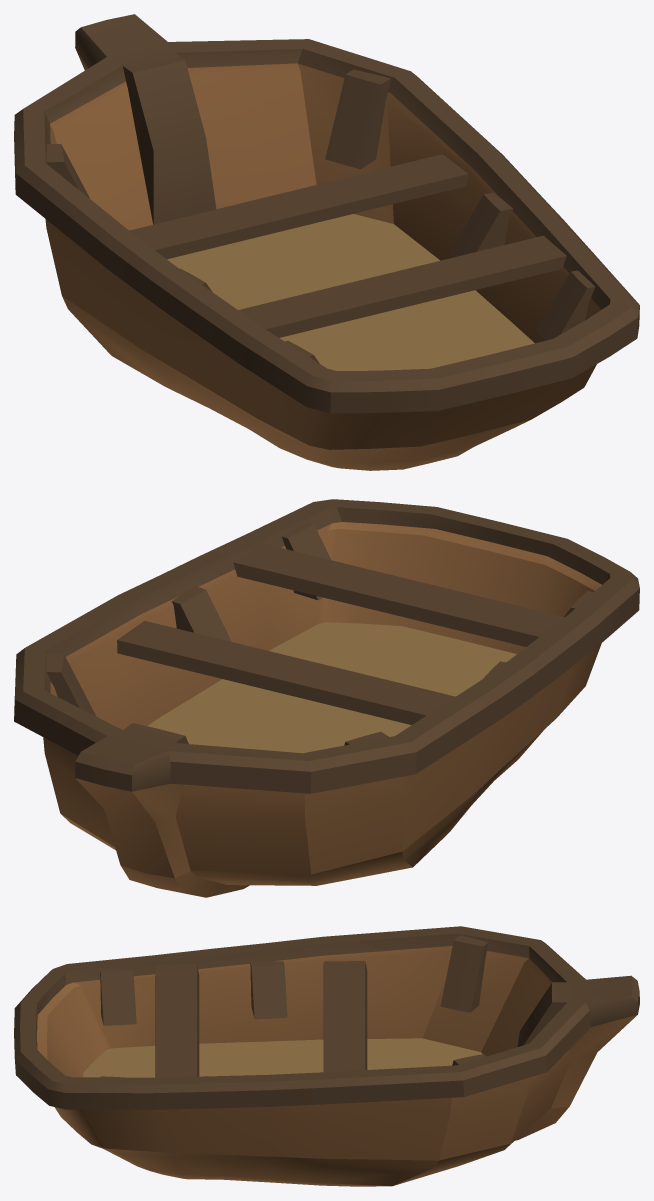
Rendered from boat.glb.
The picture shows the model from 3 angles, top to bottom: view 1: azimuth 30°, elevation 25°; view 2: azimuth 150°, elevation 25°; view 3: azimuth 270°, elevation 25°; orthographic projection. The views are drawn at different scales.
Parts seen in each view (by area): view 1: Boat; view 2: Boat; view 3: Boat.
Part boxes in pixels (x1,y1,x2,y2): Boat: [14, 14, 639, 470]; Boat: [14, 499, 639, 897]; Boat: [14, 926, 639, 1186].
Bounding box in the file's own units: 3.41 × 1.73 × 5.96.
Materials: 1 (1 with a texture image).
